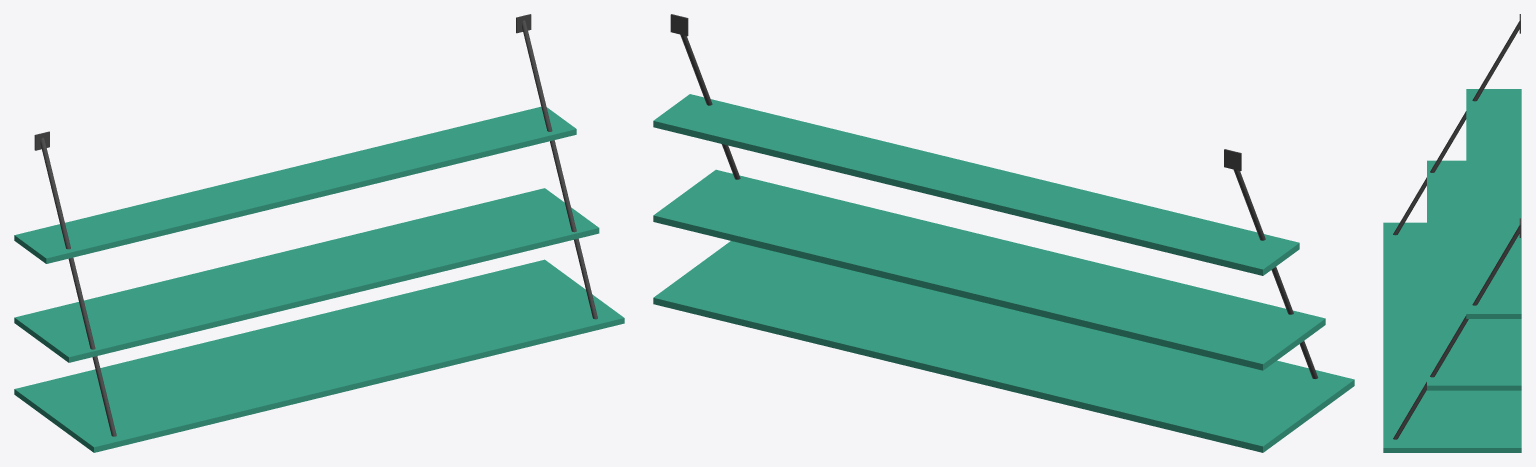
File: Estante.fbx
3 renders of one model, left to right at view 1: azimuth 30°, elevation 25°; view 2: azimuth 150°, elevation 25°; view 3: azimuth 270°, elevation 25°, orthographic. The views are drawn at different scales.
Parts seen in each view (by area): view 1: Estanteria; view 2: Estanteria; view 3: Estanteria.
Part boxes in pixels (bbox=[...]): Estanteria: bbox=[14, 14, 624, 452]; Estanteria: bbox=[653, 14, 1354, 452]; Estanteria: bbox=[1383, 14, 1521, 452].
Bounding box in the file's own units: 89.44 × 41.11 × 23.26.
